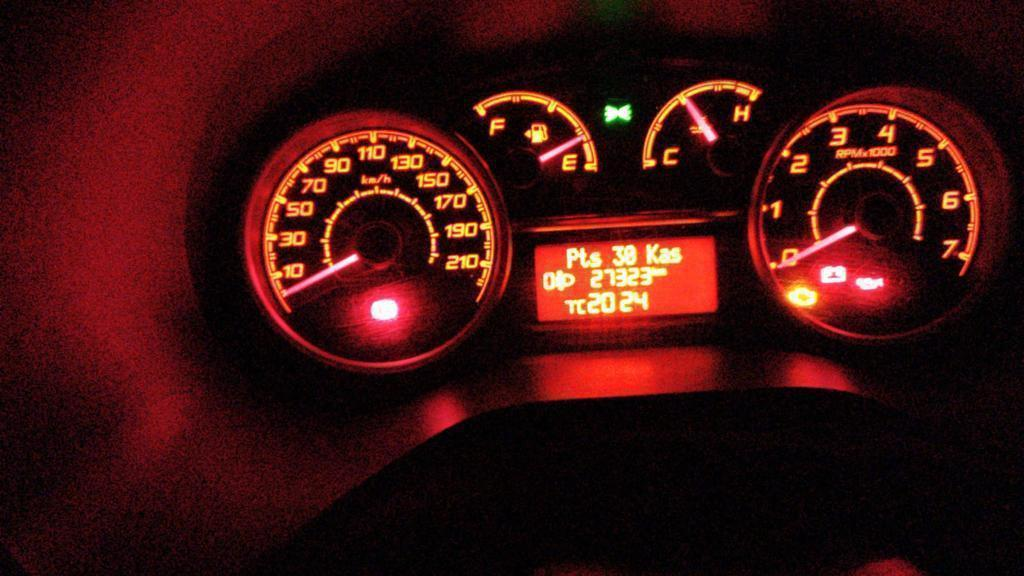0: (600, 291, 616, 313), (624, 243, 638, 266), (543, 270, 555, 290)
2: (586, 292, 600, 314), (620, 290, 633, 312), (627, 266, 640, 286), (590, 269, 602, 288)
3: (611, 244, 624, 266), (640, 266, 653, 286), (615, 266, 627, 287)
4: (634, 291, 649, 311)
7: (603, 267, 615, 286), (564, 298, 574, 314)
X: (646, 242, 659, 265), (565, 246, 578, 268), (578, 245, 590, 268), (590, 250, 603, 268), (659, 246, 671, 264), (671, 246, 683, 264), (576, 298, 586, 315), (659, 266, 667, 276), (651, 266, 659, 276)
odometer: (531, 237, 724, 324)
